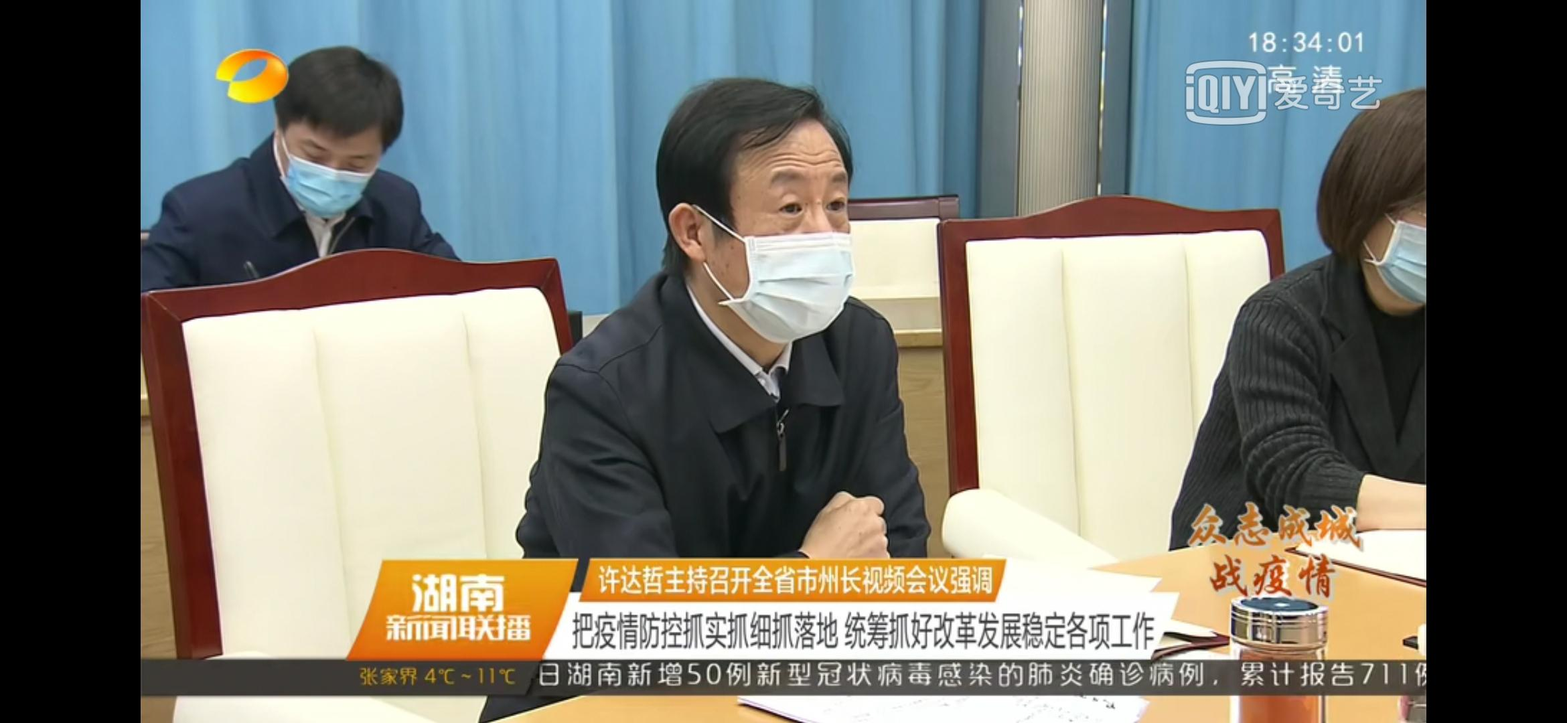OK: (698, 137, 860, 338), (1328, 144, 1424, 309), (283, 130, 378, 217)
